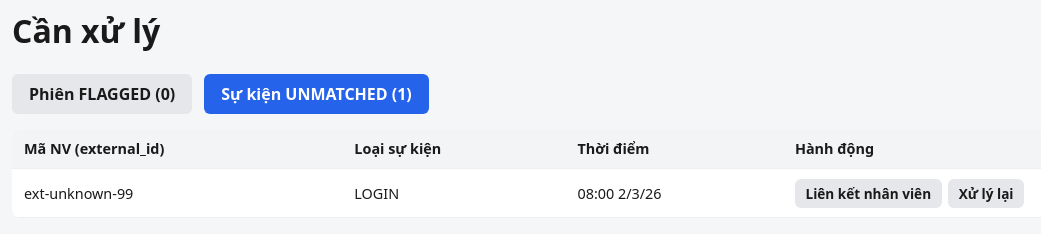
Test: NeedsAttentionPage › sự kiện UNMATCHED còn lại của cùng một external_id vẫn xử lý lại được sau khi nhân viên đã được liên kết
This screenshot has width=1041, height=234.
Expected: the text "ext-unknown-99" is shown, [12,169,342,218]
Click the button "Xử lý lại": x=986, y=193 [948,179,1024,208]
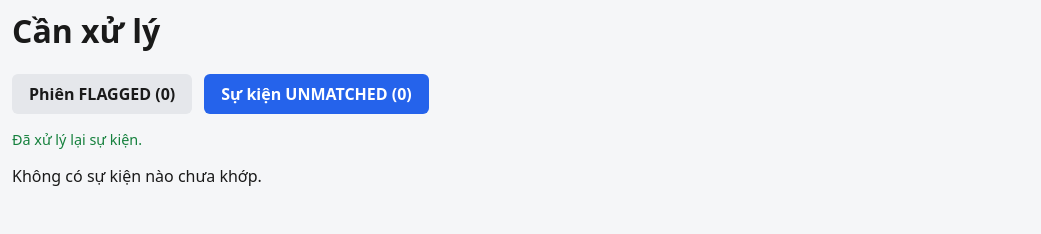
Expected: the text "ext-unknown-99" is gone
Expected: the text "Đã xử lý lại sự kiện." is shown, [12,130,142,149]
Expected: the button "Sự kiện UNMATCHED (0)" is shown, [204,74,429,114]
